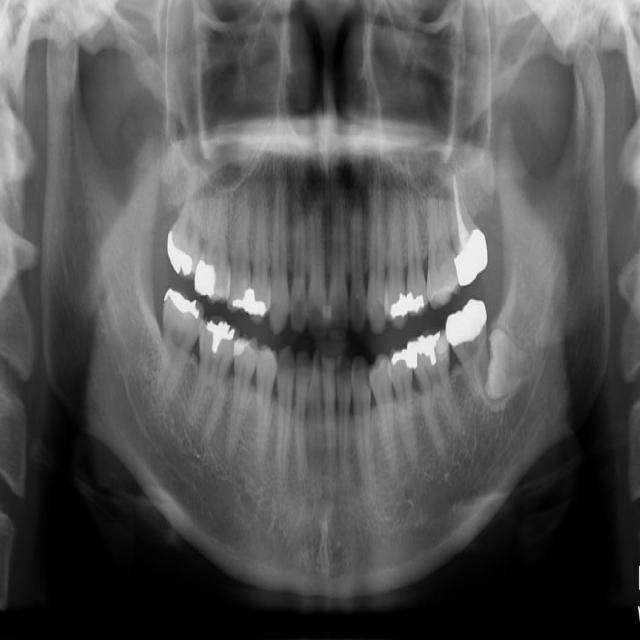52: (434, 294, 501, 358), (442, 224, 501, 293), (149, 288, 210, 349), (193, 315, 249, 376), (402, 327, 459, 382), (162, 223, 206, 285), (191, 253, 234, 304), (222, 270, 256, 315), (242, 279, 274, 322), (382, 284, 411, 328), (403, 276, 431, 321), (232, 336, 259, 380), (387, 348, 415, 385)
73: (449, 163, 475, 255), (600, 590, 606, 606)
BioHorizons Implant: (436, 158, 493, 288)
Biomet 3i Implant: (484, 325, 536, 398)
Blue Sky Bio Implant: (441, 298, 499, 398)
Caries: (161, 162, 221, 283)
Implant: (152, 289, 206, 417)
